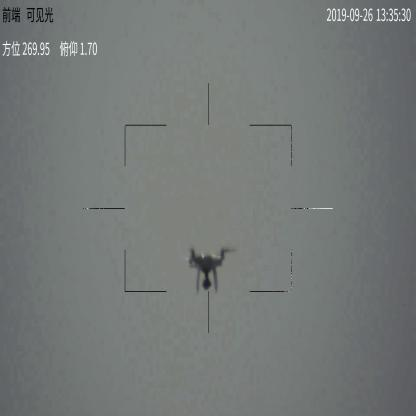uav: (185, 244, 236, 290)
